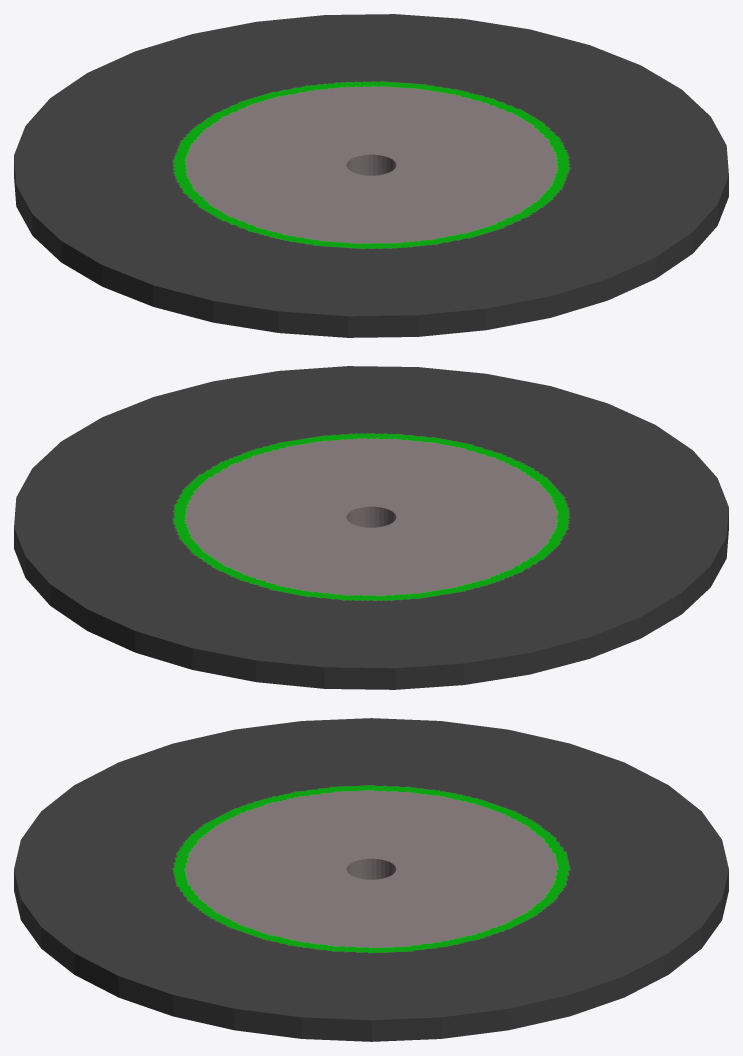
Rendered from vinyl_record_green.fbx.
3 views of the same model, one above another, from view 1: azimuth 30°, elevation 25°; view 2: azimuth 150°, elevation 25°; view 3: azimuth 270°, elevation 25° (orthographic).
Visible parts, largest first — view 1: vinyl_record_green_Baked; view 2: vinyl_record_green_Baked; view 3: vinyl_record_green_Baked.
Part boxes in pixels (bbox=[...]): vinyl_record_green_Baked: bbox=[14, 14, 728, 337]; vinyl_record_green_Baked: bbox=[14, 366, 728, 689]; vinyl_record_green_Baked: bbox=[14, 718, 728, 1041].
Bounding box in the file's own units: 30 × 1 × 30.
Materials: 1 (1 with a texture image).
